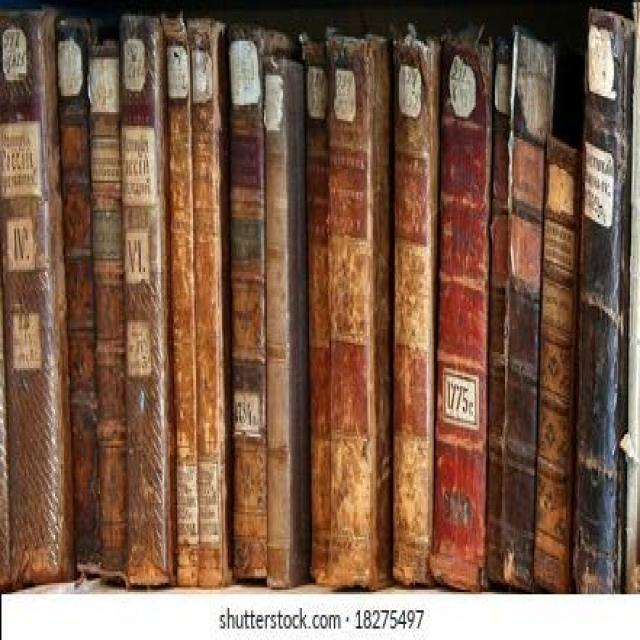book: (0, 11, 64, 584), (432, 30, 493, 591), (574, 14, 630, 596), (500, 34, 554, 596), (121, 15, 170, 583), (327, 35, 372, 587), (57, 22, 100, 570), (534, 137, 582, 594), (229, 25, 268, 578), (393, 38, 432, 583), (88, 42, 127, 580), (188, 20, 222, 588), (166, 20, 199, 585), (486, 40, 512, 581), (303, 41, 327, 583), (265, 56, 289, 586)
